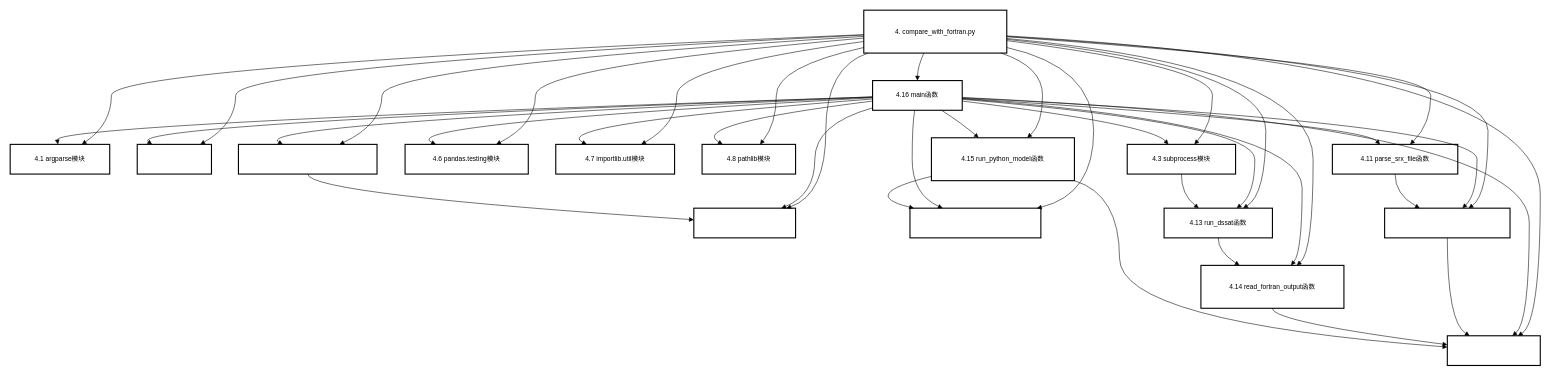
Image size: 1550x375. Some labels were removed from this diagram. Here are the shapes that lost their labels. From the top down, the centre of each, then its label:
At point 174,159: "4.2 os模块".
At point 307,159: "4.10 parse_dssat_date函数".
At point 744,222: "4.4 datetime模块".
At point 975,222: "4.9 CropgroStrawberry类".
At point 1447,222: "4.12 read_wth_file函数".
At point 1494,350: "4.5 pandas模块".
